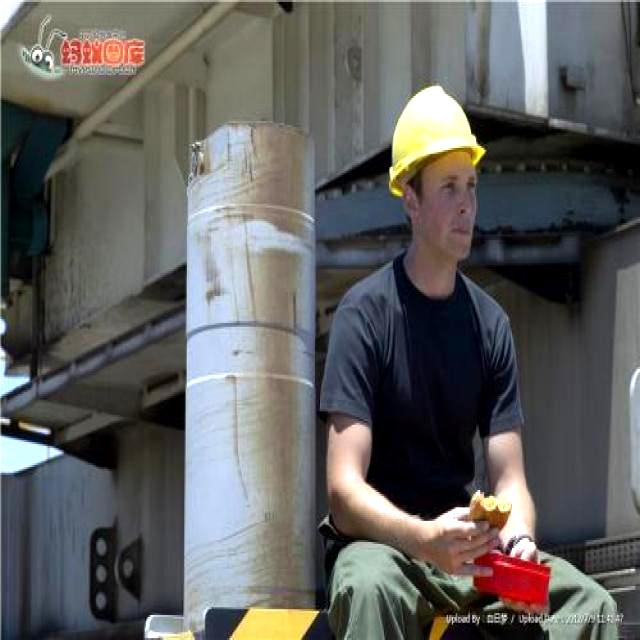hard_hat: (389, 86, 485, 196)
person: (320, 86, 536, 638)
